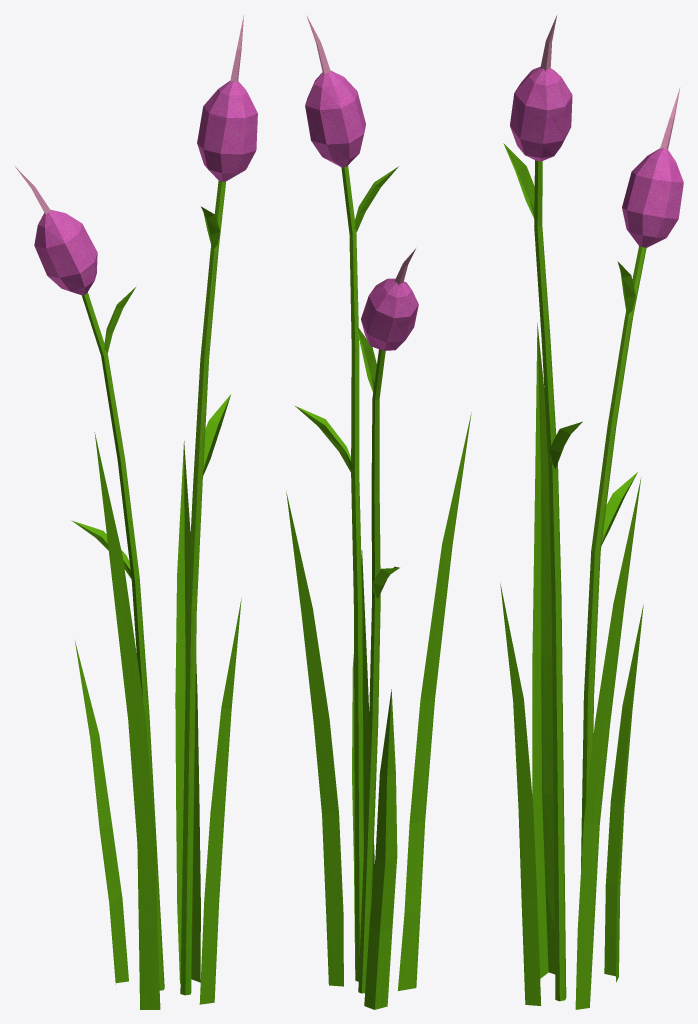
The model's file is PuffReed2_Pink.fbx.
3 renders of one model, left to right at view 1: azimuth 30°, elevation 25°; view 2: azimuth 150°, elevation 25°; view 3: azimuth 270°, elevation 25°, orthographic. The views are drawn at different scales.
Visible parts, largest first — view 1: Mesh; view 2: Mesh; view 3: Mesh.
Boxes of the visible parts, left/top/right/bottom form: Mesh: left=15, top=15, right=257, bottom=1009; Mesh: left=286, top=15, right=471, bottom=1009; Mesh: left=500, top=15, right=683, bottom=1009.
Size of the model in its own units: 76.66 by 405 by 66.5.
